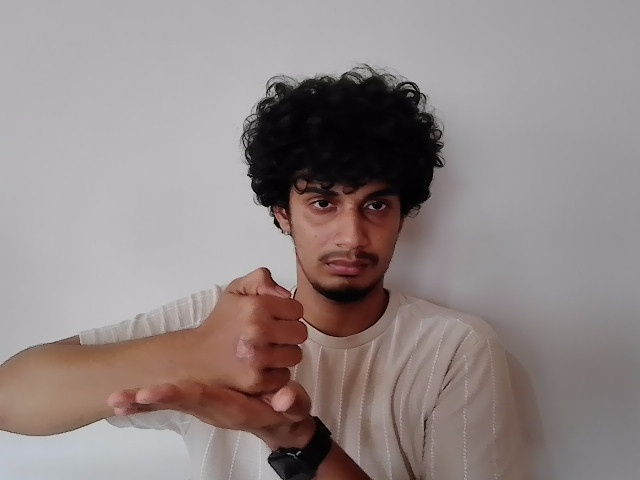help: (99, 269, 322, 433)
